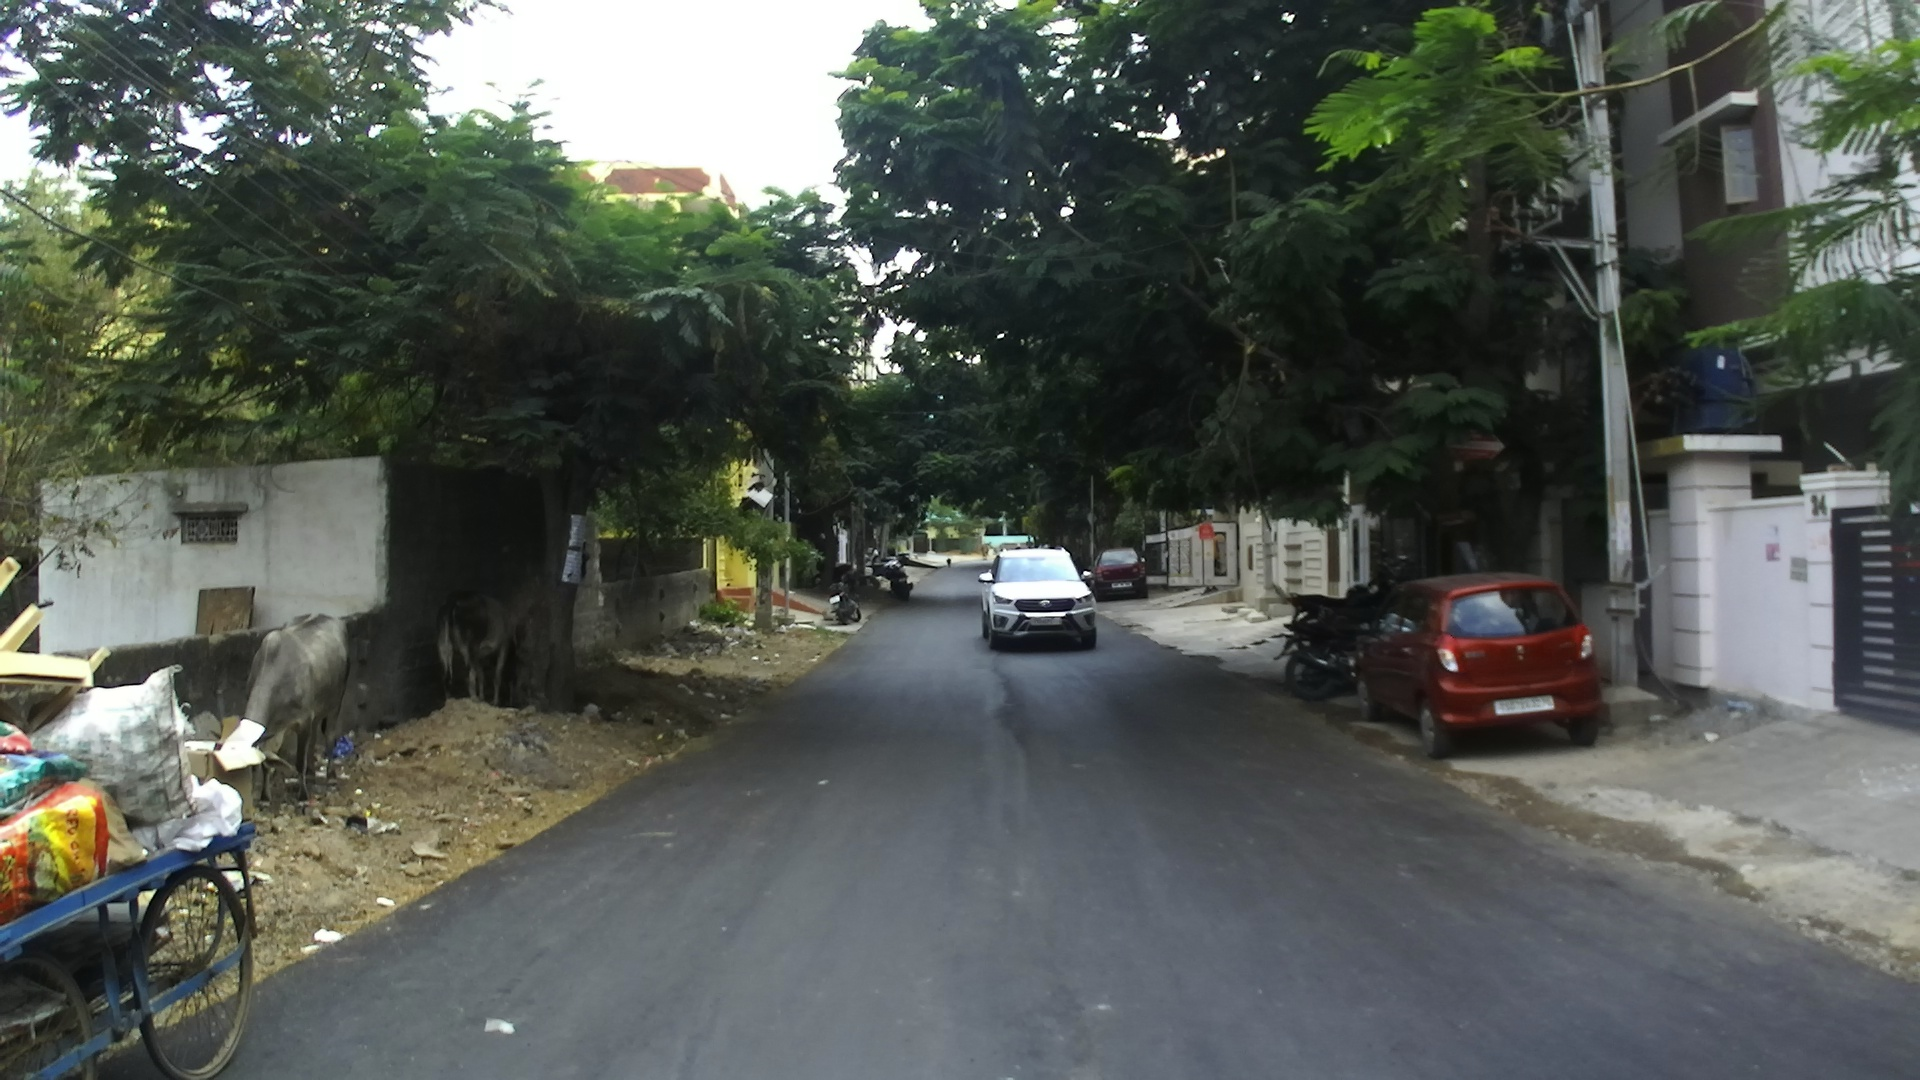vehicle: (0, 649, 272, 1072), (1356, 572, 1606, 753), (1279, 578, 1398, 698), (981, 545, 1098, 651), (1088, 550, 1146, 599), (868, 556, 911, 599)
